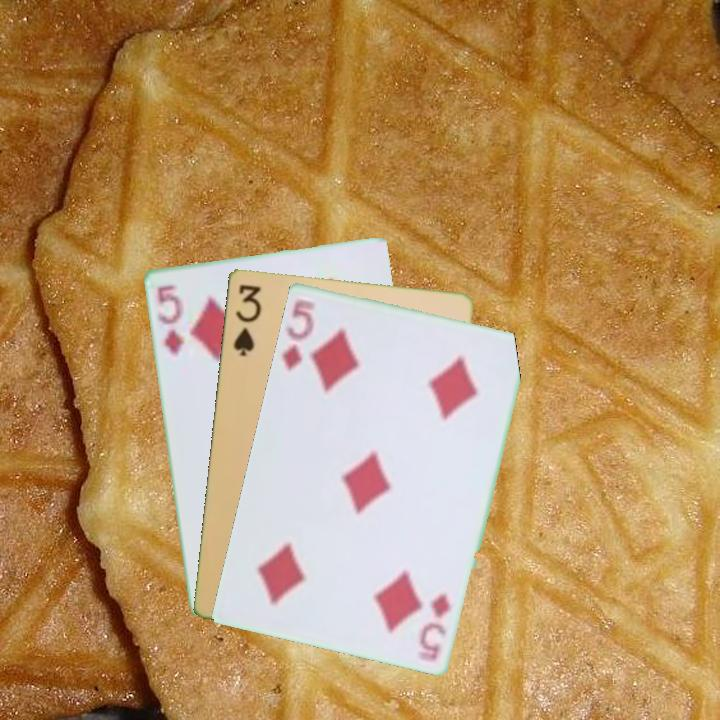3s: (230, 280, 263, 359)
5d: (279, 294, 318, 374), (418, 589, 454, 664), (153, 281, 187, 358)
